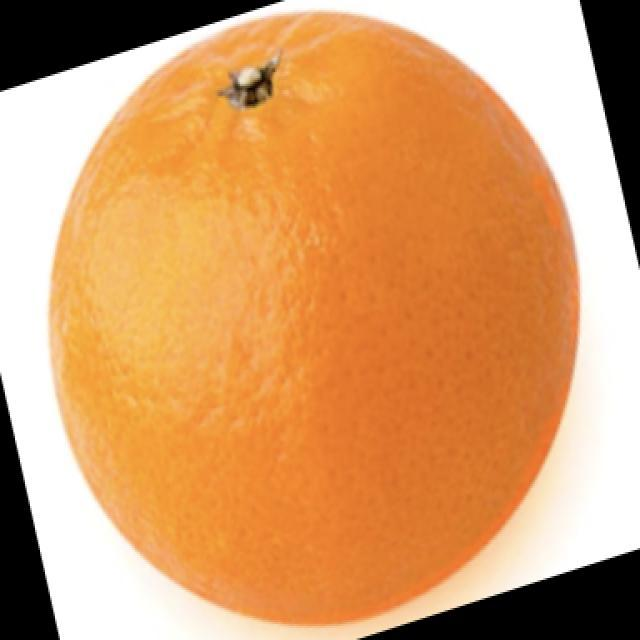matang: (51, 13, 578, 623)
